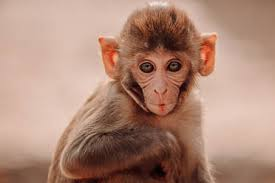monkey: (71, 2, 243, 179)
